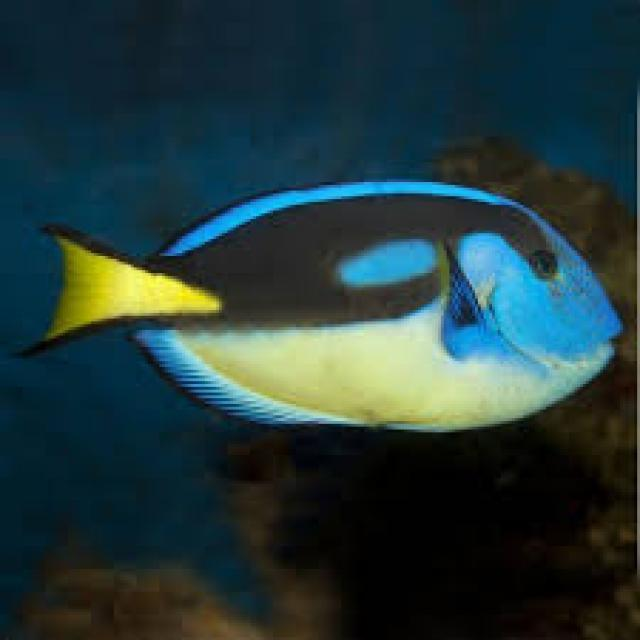BlueTang: (49, 178, 624, 437)
